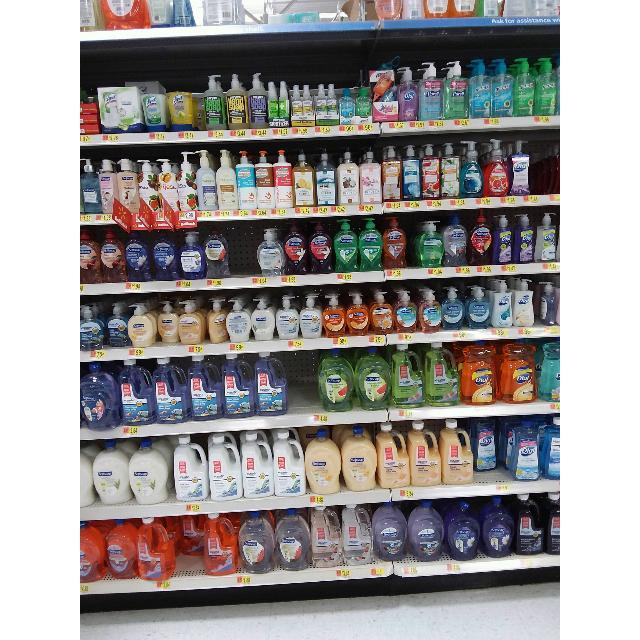empty: (288, 352, 318, 414), (230, 221, 258, 277)
front: (177, 556, 205, 578), (474, 471, 512, 484)
